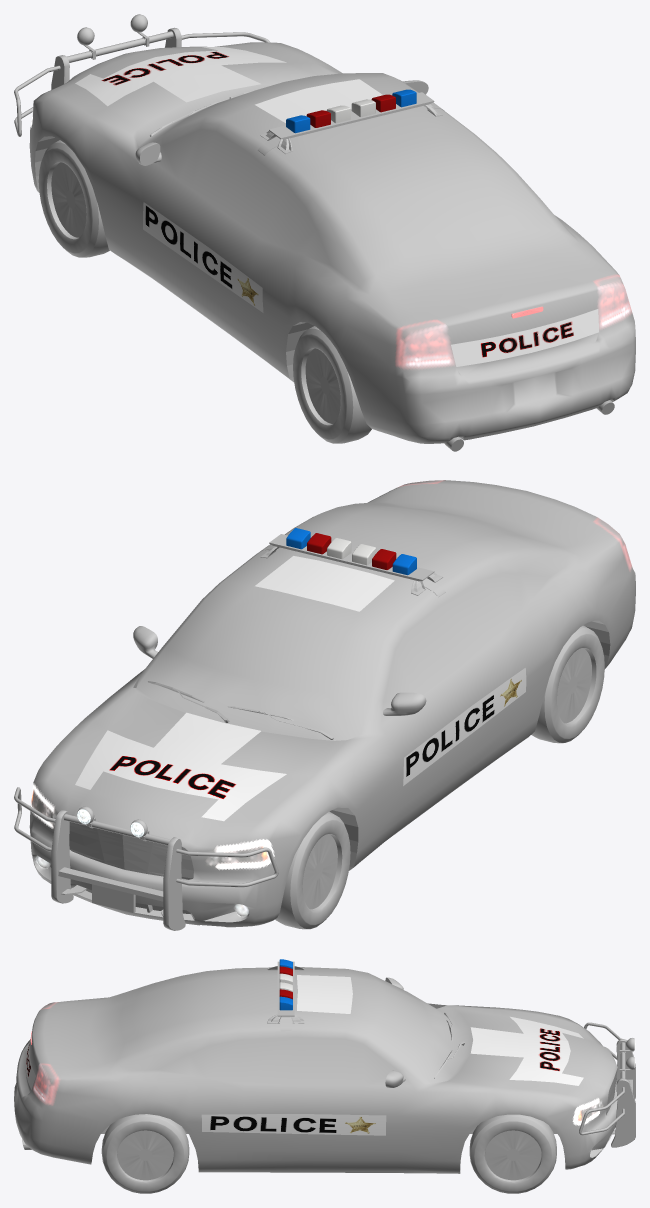
File: Police Car Lowpoly.FBX
The picture shows the model from 3 angles, top to bottom: view 1: azimuth 30°, elevation 25°; view 2: azimuth 150°, elevation 25°; view 3: azimuth 270°, elevation 25°; orthographic projection. The views are drawn at different scales.
Parts seen in each view (by area): view 1: Police Car Lowpoly, Police Car Lowpoly_Wheel_BL, Police Car Lowpoly_Wheel_FL; view 2: Police Car Lowpoly, Police Car Lowpoly_Wheel_FL, Police Car Lowpoly_Wheel_BL; view 3: Police Car Lowpoly, Police Car Lowpoly_Wheel_BR, Police Car Lowpoly_Wheel_FR.
Part boxes in pixels (x1,y1,x2,y2): Police Car Lowpoly: (14, 14, 635, 451); Police Car Lowpoly_Wheel_BL: (293, 326, 371, 443); Police Car Lowpoly_Wheel_FL: (38, 140, 109, 257); Police Car Lowpoly: (14, 480, 635, 930); Police Car Lowpoly_Wheel_FL: (275, 811, 350, 929); Police Car Lowpoly_Wheel_BL: (531, 625, 604, 743); Police Car Lowpoly: (14, 959, 635, 1173); Police Car Lowpoly_Wheel_BR: (101, 1114, 189, 1193); Police Car Lowpoly_Wheel_FR: (469, 1114, 556, 1193).
Bounding box in the file's own units: 1.97 × 1.53 × 5.07.
